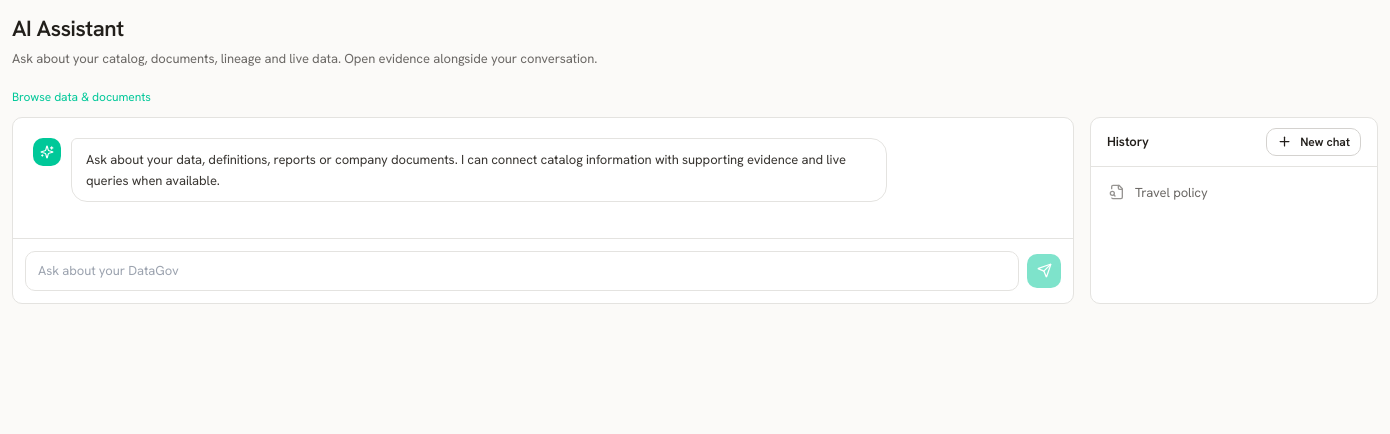
it: AI assistant chat › shows a verbatim Document Analyzer answer's closing line as a footnote, without images, with source links opening safely in a new tab
Step 1. Click the button "Travel policy" → [1171, 192], box 1099,174 -> 1369,210
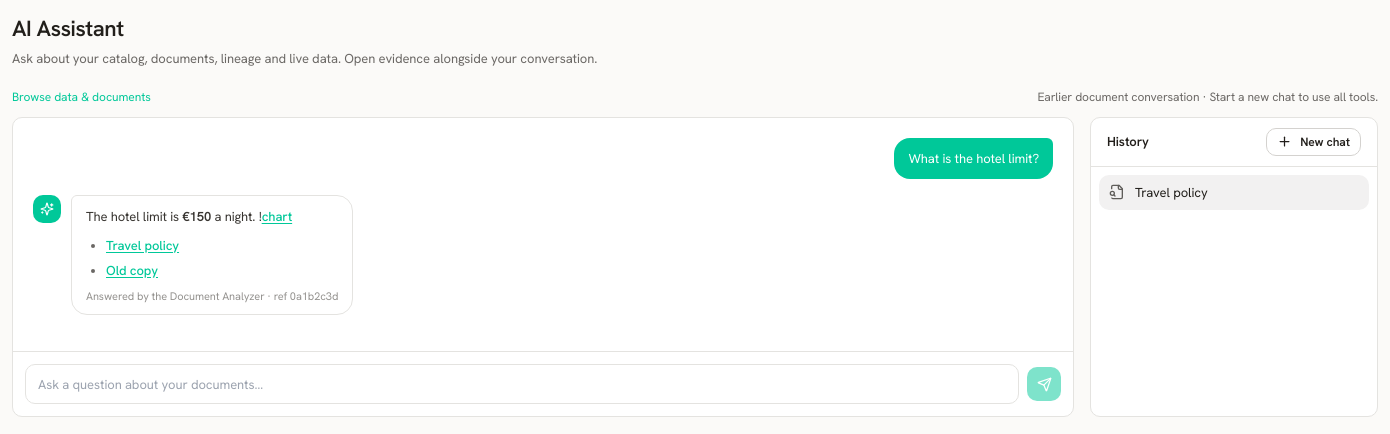
Check: the text "Answered by the Document Analyzer · ref 0a1b2c3d" is shown, box 86,289 -> 338,304
